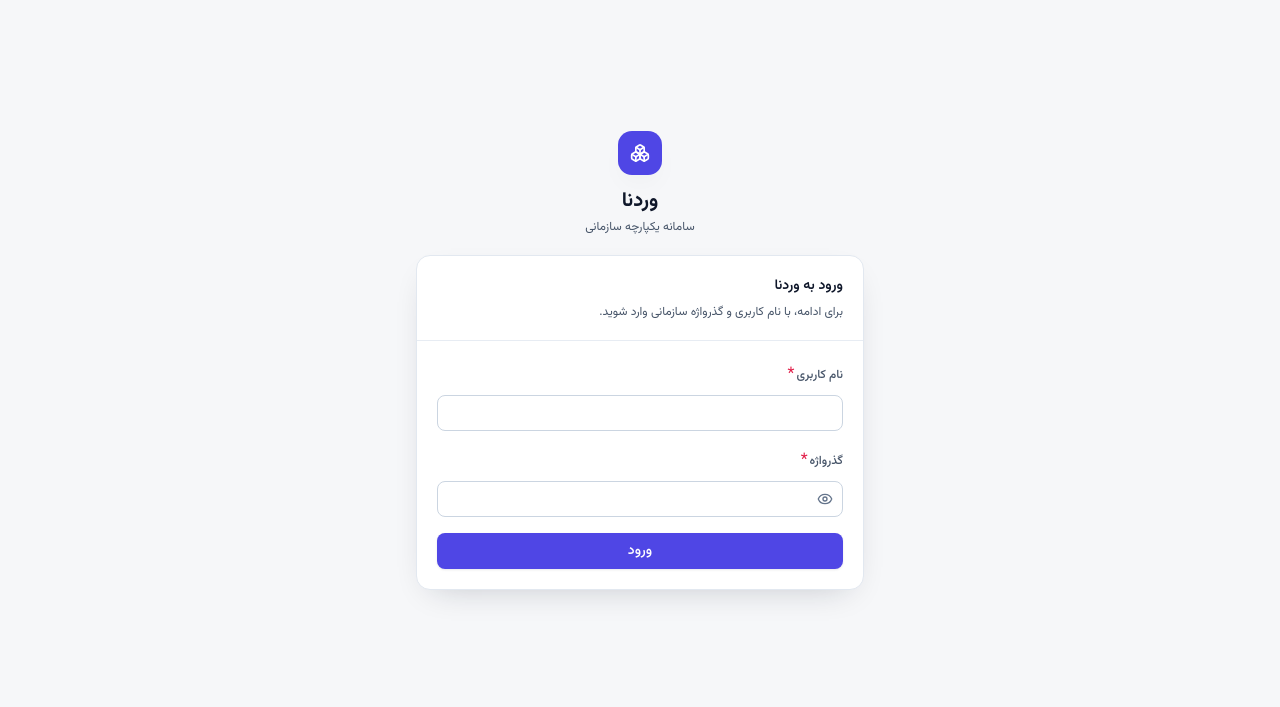
Test: login flow › ends the session and returns to the login page on logout
The image size is (1280, 707).
Step 1. Type "accountant" into the field labelled "نام کاربری" → [640, 412], box [437,394,843,430]
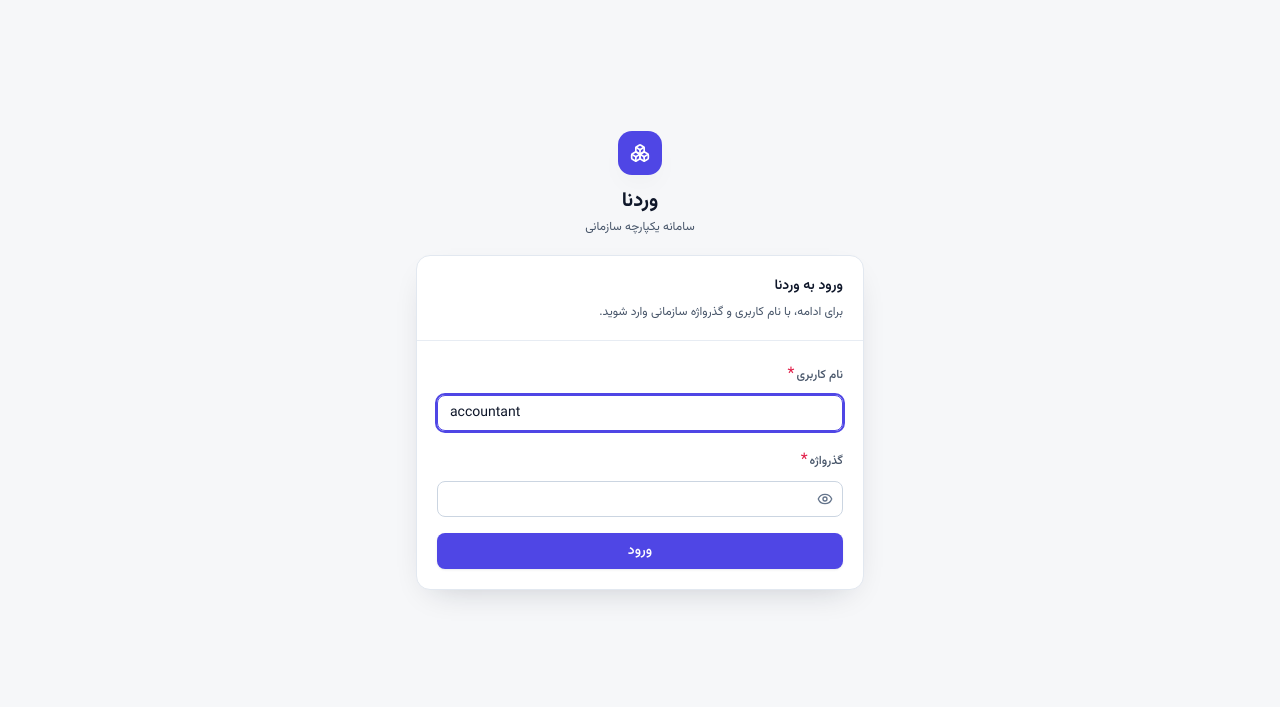
Step 2. Type "correct-password" into the password field labelled "گذرواژه" → [640, 498], box [437,480,843,516]
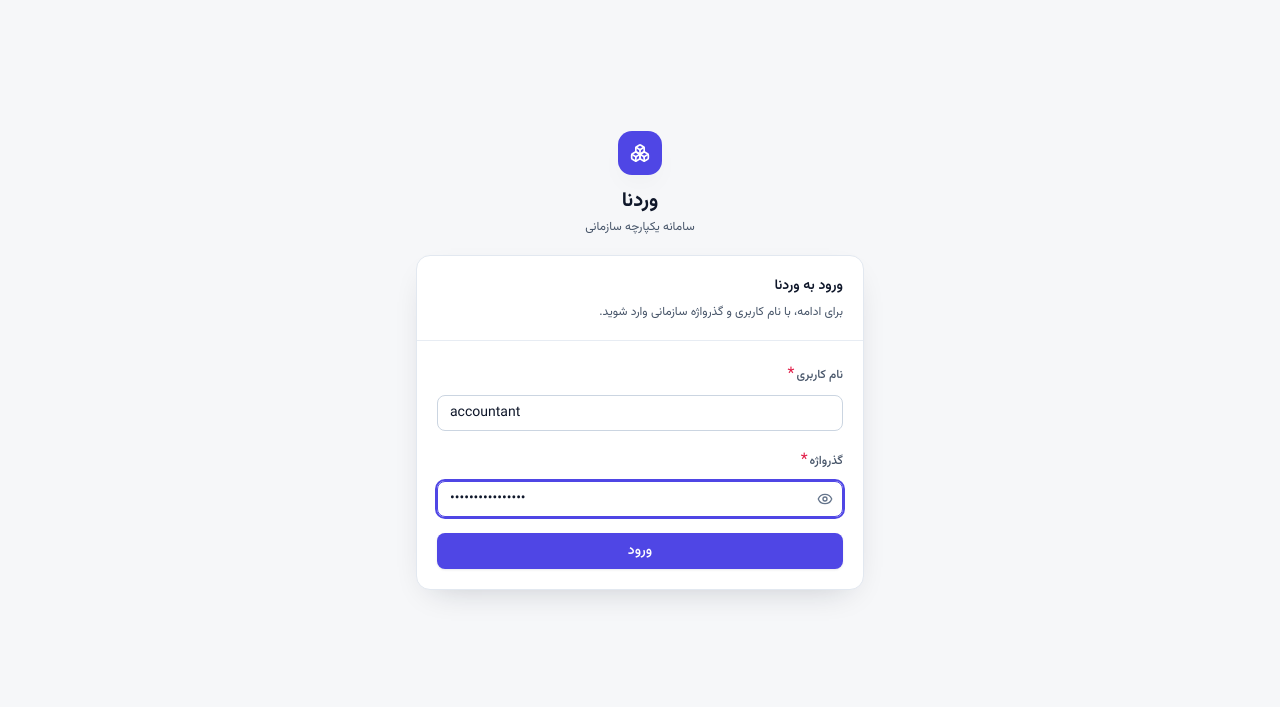
Step 3. Click the button "ورود" → [640, 550], box [437,532,843,568]
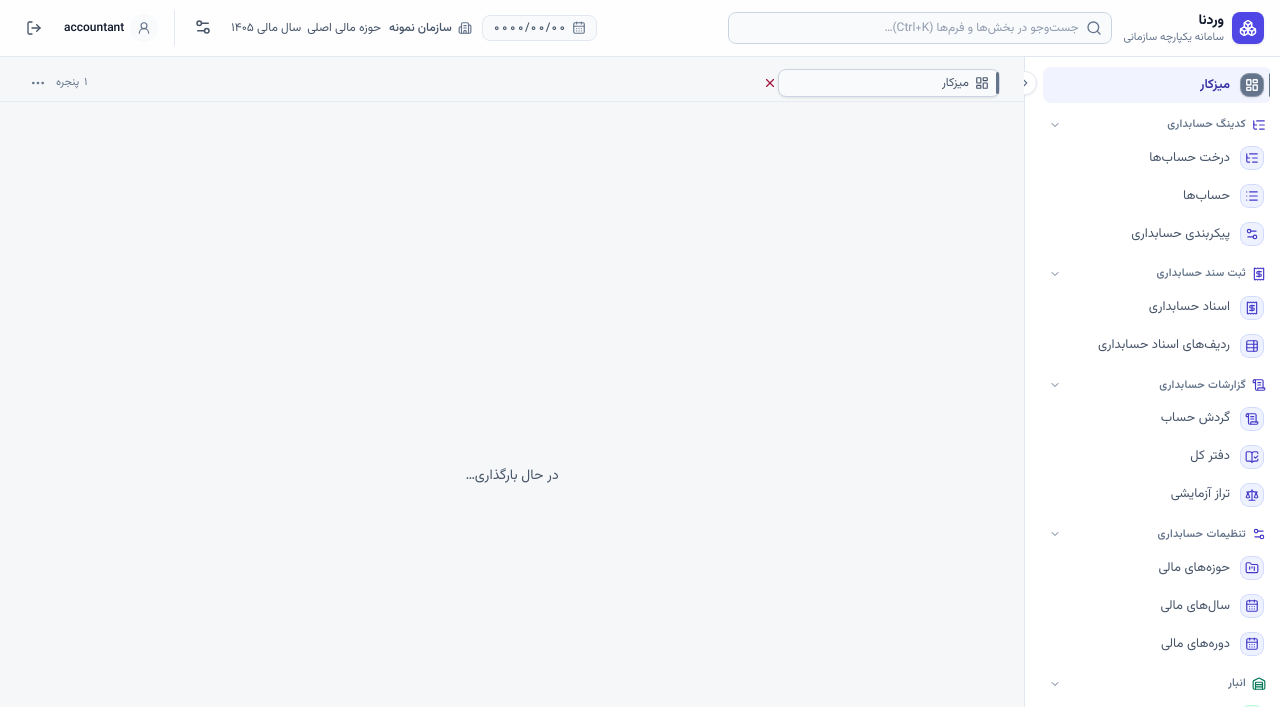
Step 4. Click the button named "خروج" → [34, 28], box [16,10,52,46]
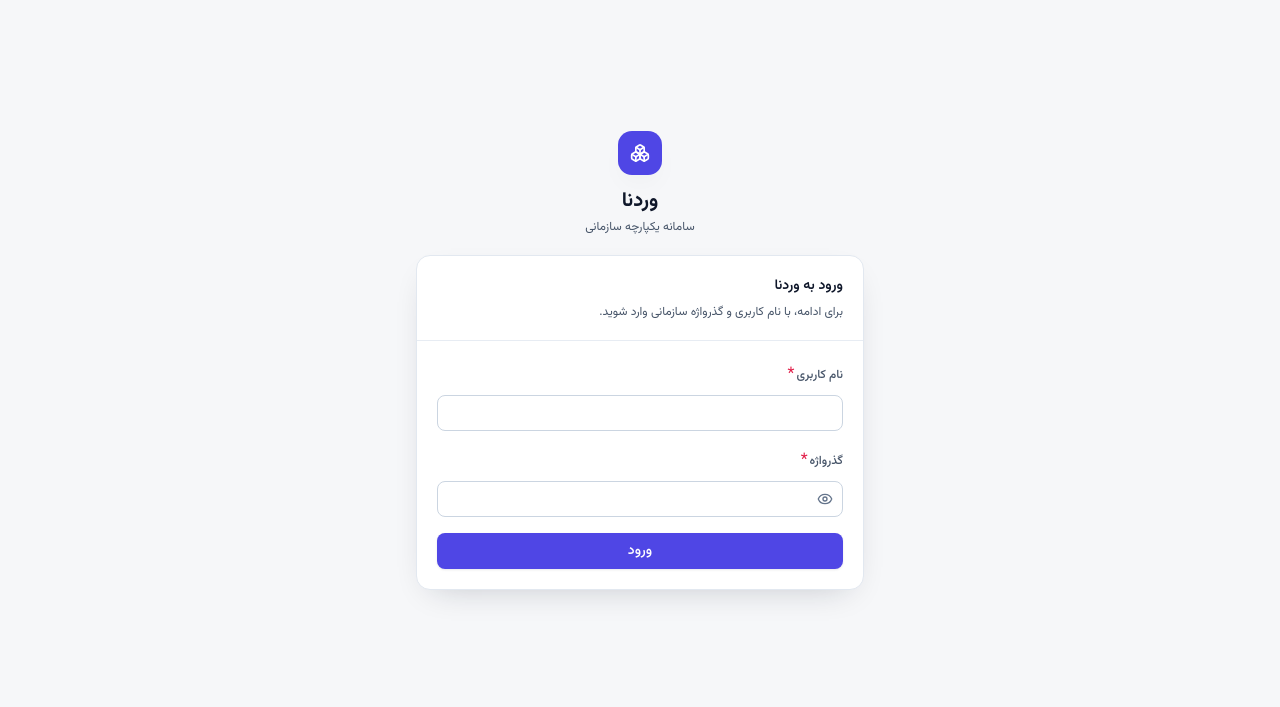
Now the heading "ورود به وردنا" is shown, box [774,274,843,296]
